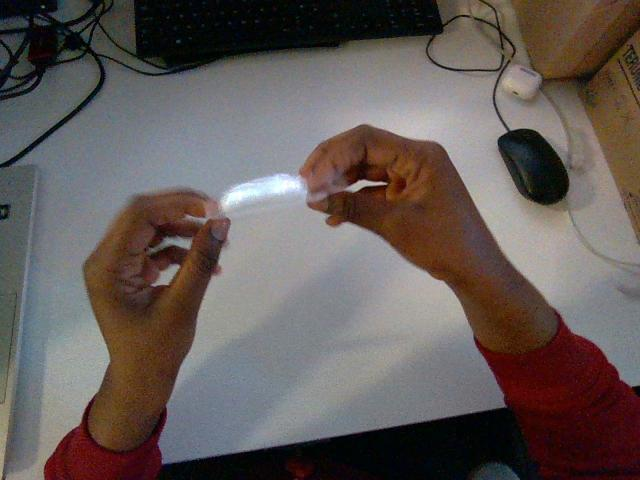gauze: (220, 174, 335, 215)
